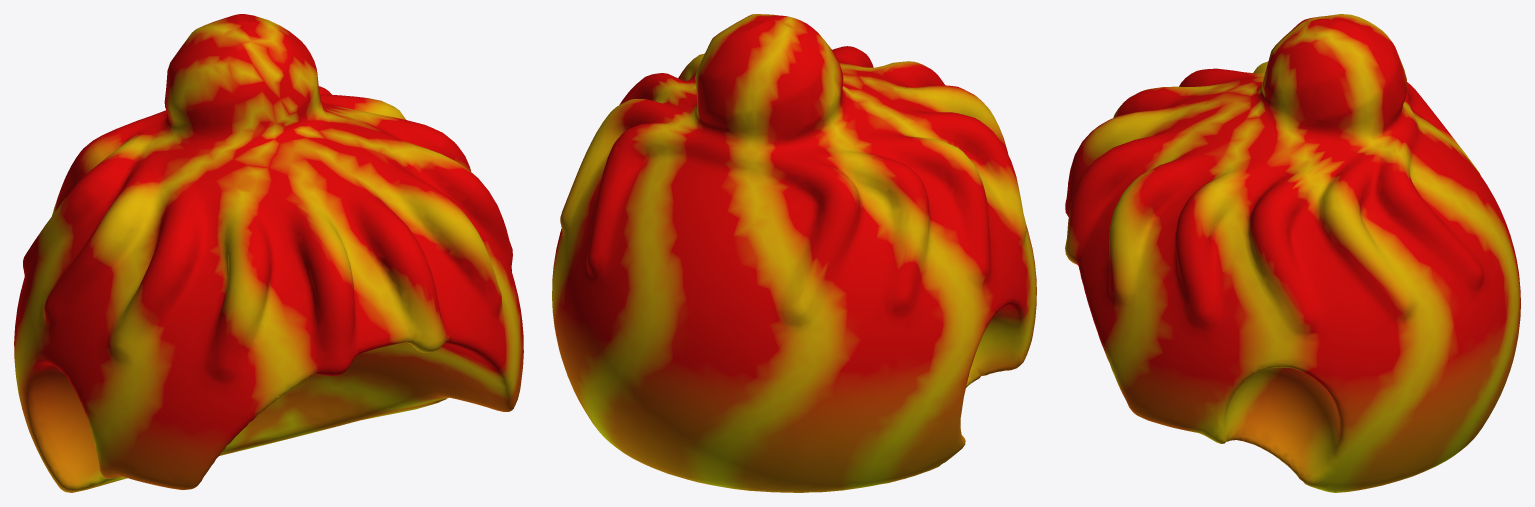
Rendered from bun.glb.
3 renders of one model, left to right at view 1: azimuth 30°, elevation 25°; view 2: azimuth 150°, elevation 25°; view 3: azimuth 270°, elevation 25°, orthographic. The views are drawn at different scales.
Parts seen in each view (by area): view 1: part; view 2: part; view 3: part.
Part boxes in pixels (x1,y1,x2,y2): part: [14, 14, 523, 492]; part: [552, 14, 1036, 492]; part: [1065, 14, 1520, 492].
Bounding box in the file's own units: 2.08 × 1.97 × 2.06.
